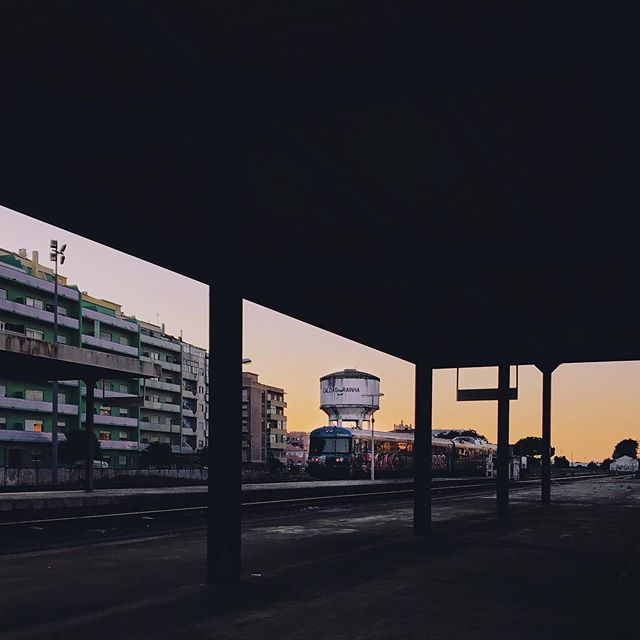building: (1, 266, 141, 464), (129, 322, 205, 451), (317, 365, 382, 483), (241, 371, 290, 463)
train: (321, 420, 517, 481)
